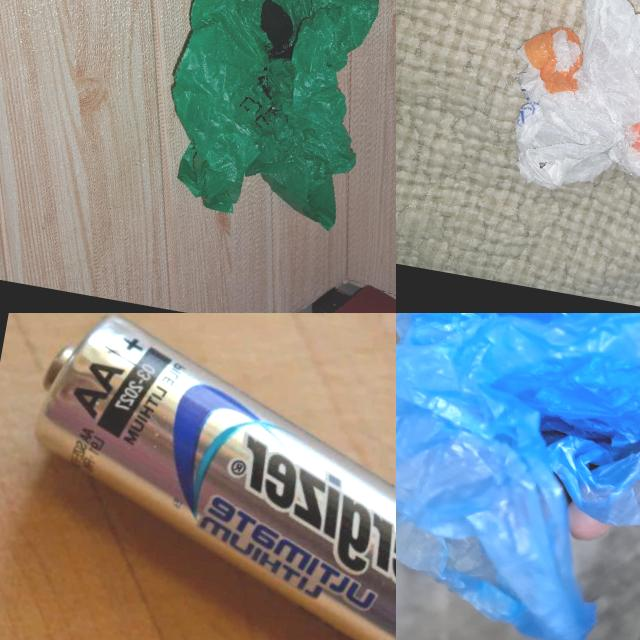bateria: (0, 313, 396, 640)
sacola plástica: (396, 313, 640, 640), (149, 0, 396, 235), (495, 0, 640, 221)
